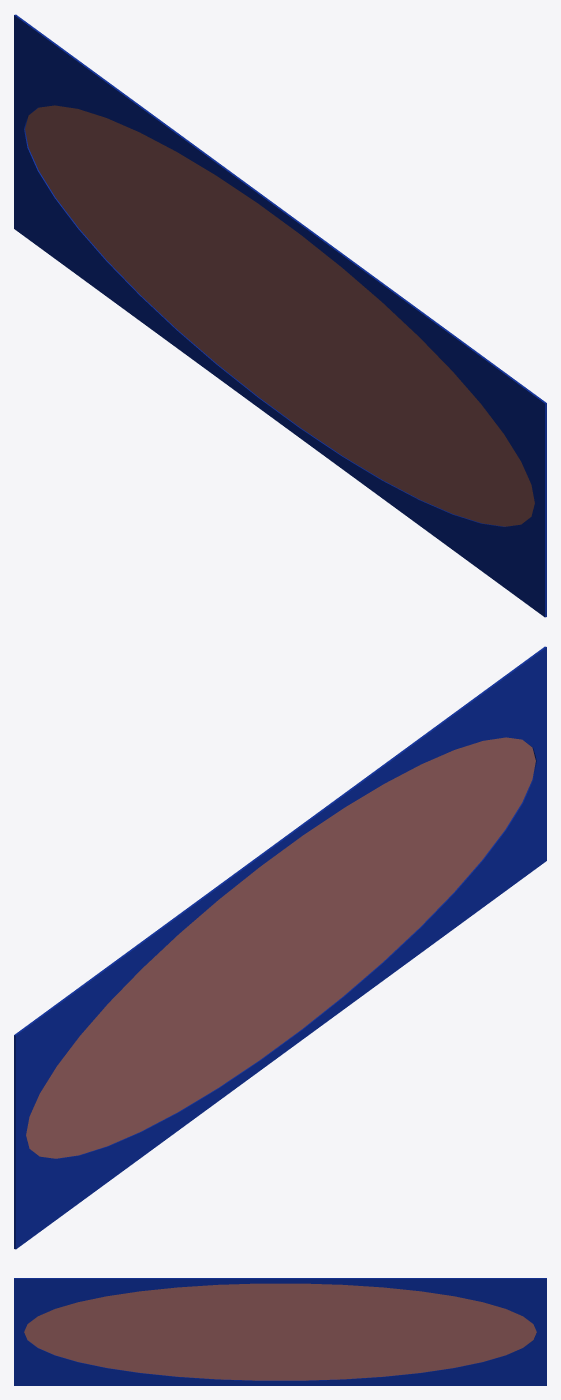
File: 10x45 the big oval.FBX
3 renders of one model, top to bottom at view 1: azimuth 30°, elevation 25°; view 2: azimuth 150°, elevation 25°; view 3: azimuth 270°, elevation 25°, orthographic. The views are drawn at different scales.
Parts seen in each view (by area): view 1: Med Wall Large oval Window; view 2: Med Wall Large oval Window; view 3: Med Wall Large oval Window.
Boxes of the visible parts, x1,y1,x2,y2 form: Med Wall Large oval Window: (14, 14, 546, 617); Med Wall Large oval Window: (14, 646, 546, 1249); Med Wall Large oval Window: (14, 1278, 546, 1385).
Size of the model in its own units: 0.1 by 10 by 45.
